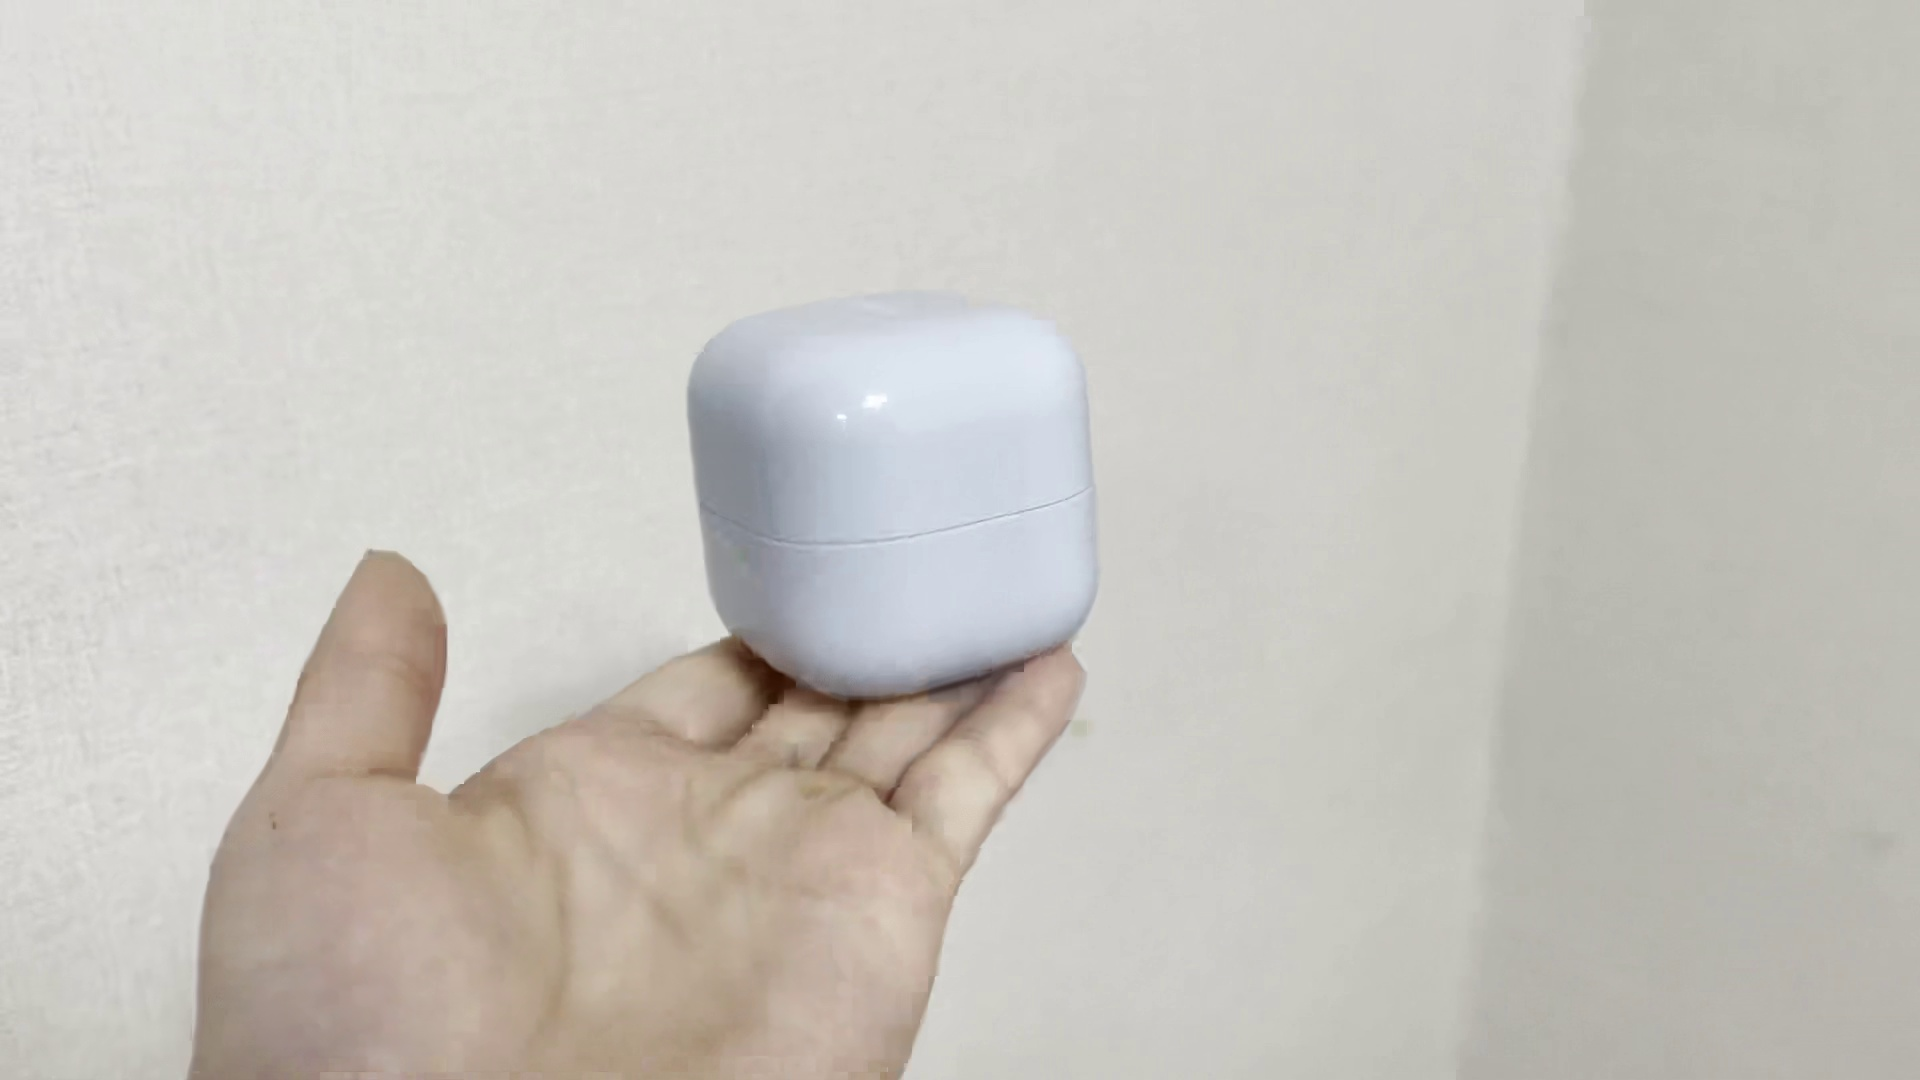cream: (684, 295, 1097, 696)
